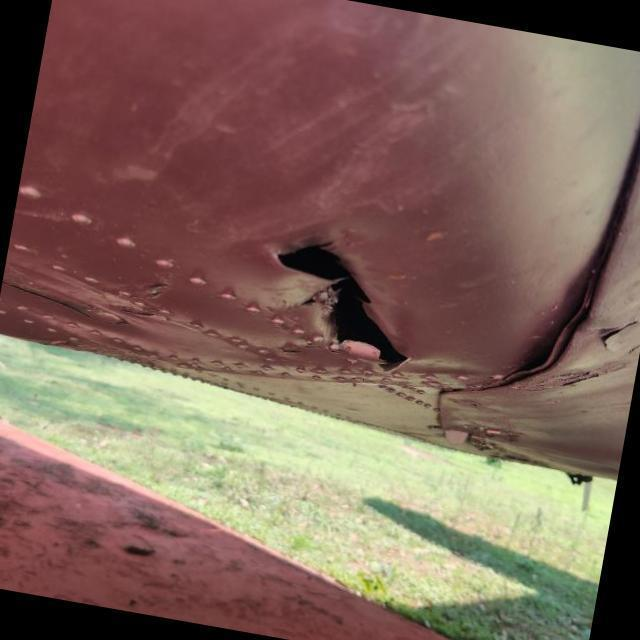dent: (511, 236, 623, 400)
